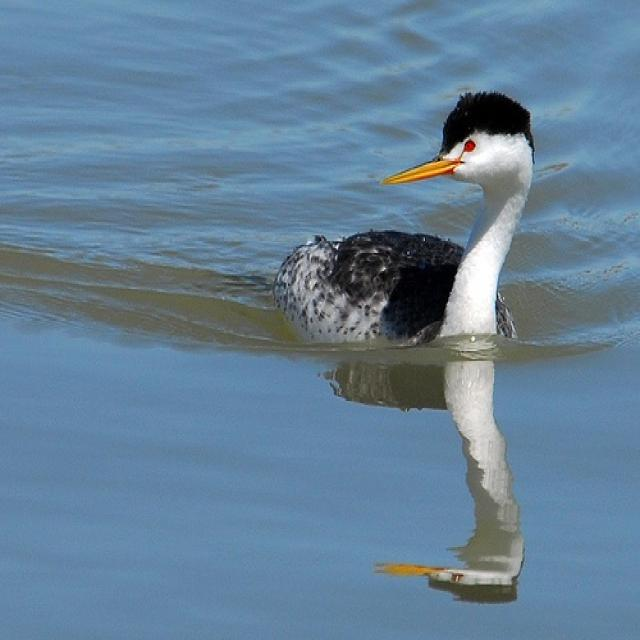bird: (270, 83, 537, 346)
